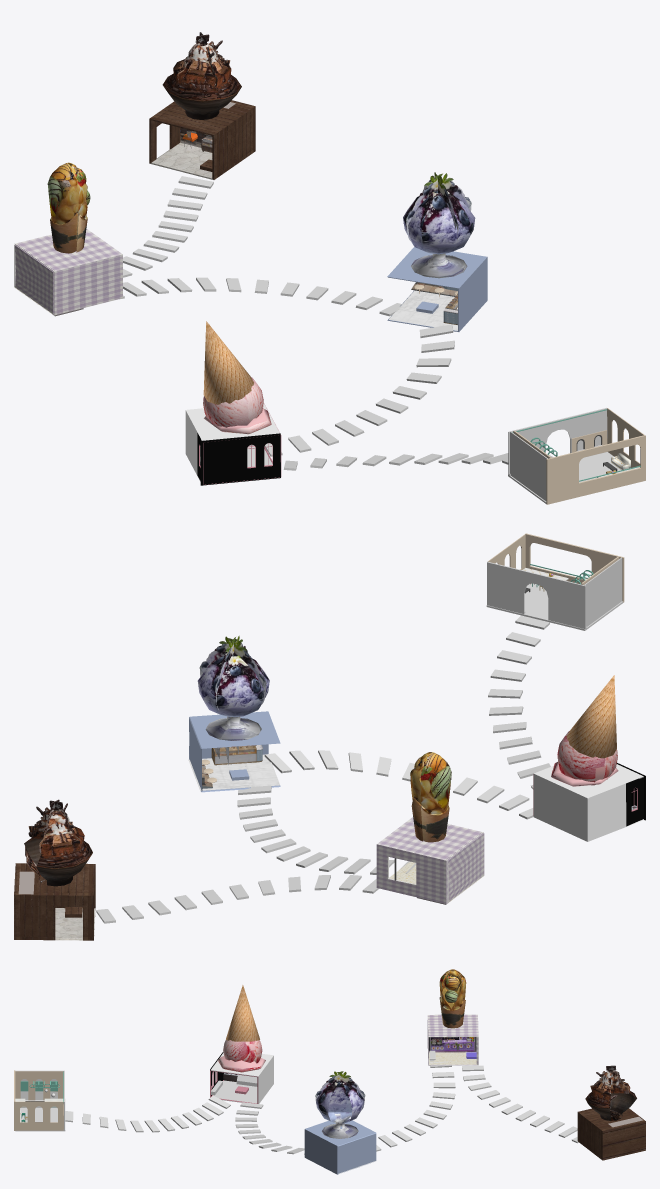
Rendered from IceCreamExhibit_unjoined.fbx.
3 renders of one model, top to bottom at view 1: azimuth 30°, elevation 25°; view 2: azimuth 150°, elevation 25°; view 3: azimuth 270°, elevation 25°, orthographic. The views are drawn at different scales.
Visible parts, largest first — view 1: Walls.002, Cylinder, Walls.003, Cylinder.003, Window line.001, WallLobby4, Walls, Path2, Cone, Path4, Path3, Cylinder.001 (+11 smaller); view 2: Walls.002, Walls.001, Cylinder, Walls.003, WallLobby2, Cylinder.003, Path1, Path3, Cone, Walls, Path2, Path4 (+13 smaller); view 3: Walls, Walls.003, Cylinder, Path1, Cylinder.003, Path3, Path4, WindowLobby, Walls.002, Cone, Path2, WallPiece3 (+11 smaller).
Part boxes in pixels (left/top/right/bottom): Walls.002: left=14, top=228, right=122, bottom=315; Cylinder: left=403, top=191, right=475, bottom=278; Walls.003: left=149, top=100, right=255, bottom=179; Cylinder.003: left=162, top=43, right=241, bottom=119; Window line.001: left=200, top=433, right=280, bottom=485; WallLobby4: left=546, top=435, right=645, bottom=504; Walls: left=387, top=247, right=487, bottom=331; Path2: left=264, top=324, right=454, bottom=456; Cone: left=203, top=321, right=253, bottom=404; Path4: left=123, top=176, right=213, bottom=277; Path3: left=119, top=277, right=401, bottom=316; Cylinder.001: left=47, top=162, right=87, bottom=241; Walls.002: left=376, top=817, right=484, bottom=904; Walls.001: left=533, top=764, right=643, bottom=841; Cylinder: left=197, top=653, right=269, bottom=740; Walls.003: left=14, top=863, right=95, bottom=940; WallLobby2: left=487, top=562, right=586, bottom=628; Cylinder.003: left=24, top=810, right=92, bottom=886; Path1: left=488, top=615, right=550, bottom=789; Path3: left=237, top=785, right=416, bottom=874; Cone: left=566, top=675, right=616, bottom=758; Walls: left=189, top=711, right=280, bottom=792; Path2: left=264, top=750, right=533, bottom=819; Path4: left=96, top=875, right=378, bottom=923; Walls: left=304, top=1118, right=376, bottom=1174; Walls.003: left=577, top=1108, right=645, bottom=1160; Cylinder: left=316, top=1082, right=364, bottom=1138; Path1: left=65, top=1095, right=230, bottom=1132; Cylinder.003: left=585, top=1071, right=636, bottom=1120; Path3: left=376, top=1061, right=455, bottom=1151; Path4: left=462, top=1065, right=578, bottom=1143; WindowLobby: left=14, top=1101, right=63, bottom=1130; Walls.002: left=427, top=1014, right=478, bottom=1065; Cone: left=226, top=985, right=259, bottom=1041; Path2: left=235, top=1102, right=304, bottom=1154; WallPiece3: left=15, top=1071, right=63, bottom=1100.
Size of the model in its own units: 9648 by 5320 by 21698.
Materials: 40 (21 with a texture image).
